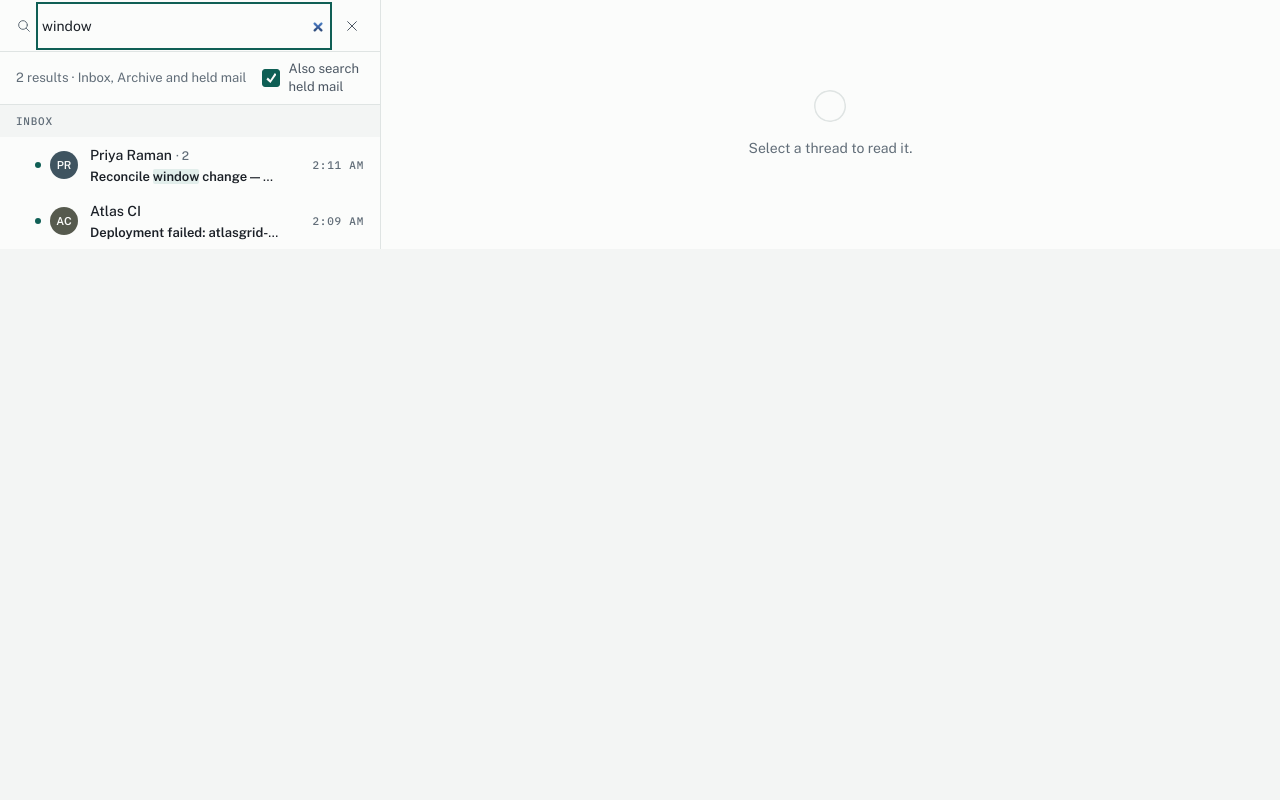
Test: opening a result keeps the search (§5.11) › keeps the held toggle across an open
The width and height of the screenshot is (1280, 800).
Expected: the checkbox labelled "Also search held mail" is checked, [262,69,280,87]
Click the button with aria-label "Priya Raman, Reconcile window change — my fault, 14 minutes" at (131,154), box [26,137,380,193]
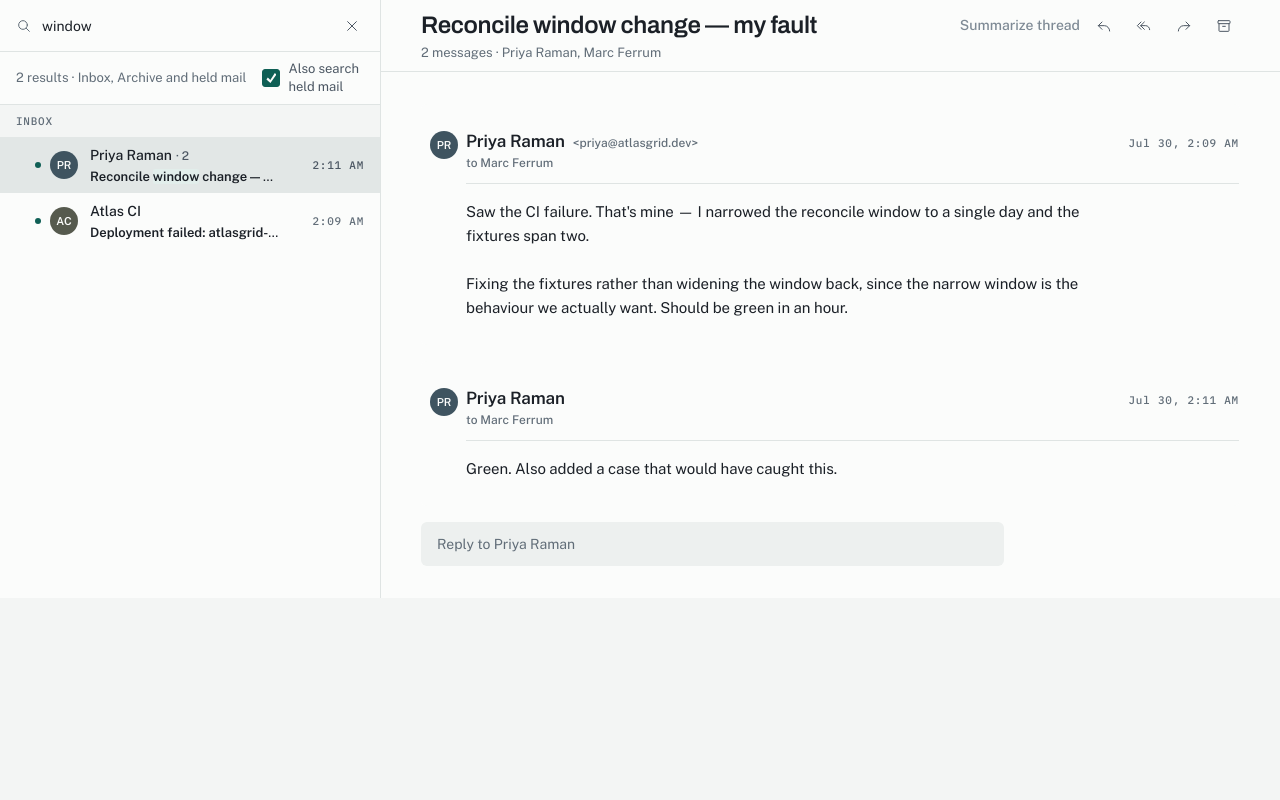
Expected: the checkbox labelled "Also search held mail" is checked, [262,69,280,87]
Expected: the heading "Reconcile window change — my fault" is shown, [421,10,817,40]
